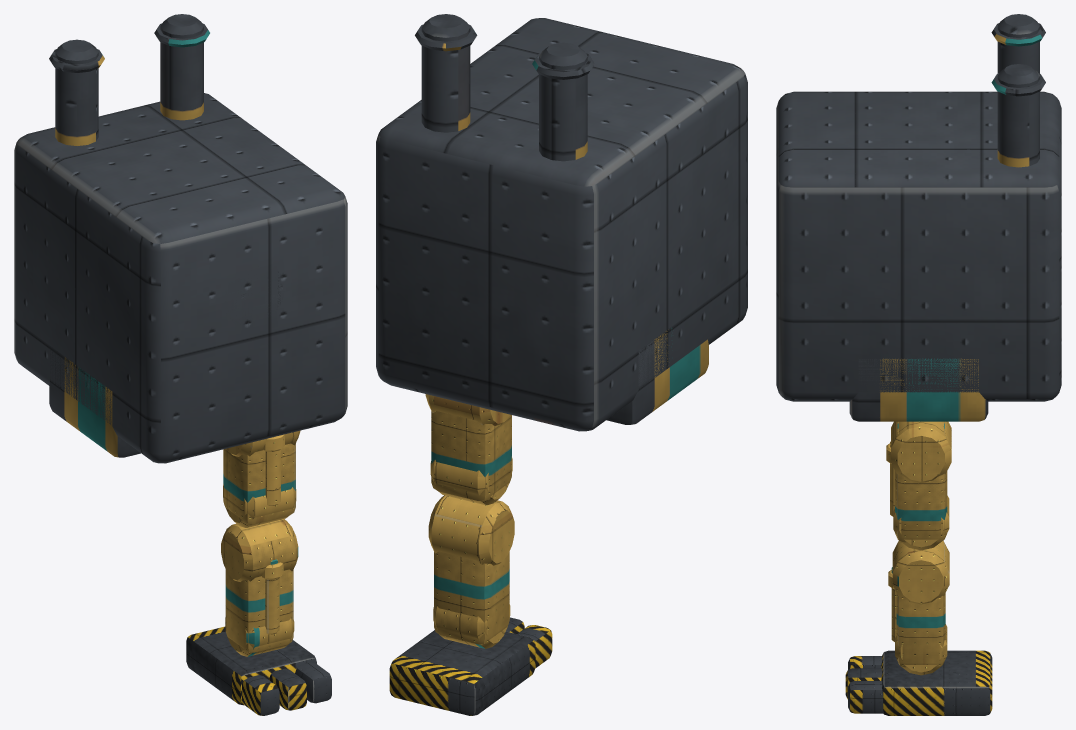
The model's file is titan_chassis.fbx.
The picture shows the model from 3 angles, left to right: view 1: azimuth 30°, elevation 25°; view 2: azimuth 150°, elevation 25°; view 3: azimuth 270°, elevation 25°; orthographic projection. The views are drawn at different scales.
Parts seen in each view (by area): view 1: Titan_Torso, Titan_Leg_Lower, Titan_Foot, Titan_Leg_Upper; view 2: Titan_Torso, Titan_Leg_Lower, Titan_Foot, Titan_Leg_Upper; view 3: Titan_Torso, Titan_Foot, Titan_Leg_Upper, Titan_Leg_Lower.
Boxes of the visible parts, x1,y1,x2,y2 form: Titan_Torso: (14, 14, 347, 463); Titan_Leg_Lower: (221, 519, 298, 656); Titan_Foot: (186, 626, 331, 715); Titan_Leg_Upper: (223, 430, 300, 527); Titan_Torso: (376, 14, 747, 431); Titan_Leg_Lower: (428, 495, 514, 648); Titan_Foot: (389, 617, 552, 715); Titan_Leg_Upper: (425, 394, 512, 505); Titan_Torso: (776, 14, 1061, 421); Titan_Foot: (845, 650, 992, 715); Titan_Leg_Upper: (886, 421, 951, 550); Titan_Leg_Lower: (888, 541, 949, 675).
Bounding box in the file's own units: 6.05 × 16.7 × 7.
